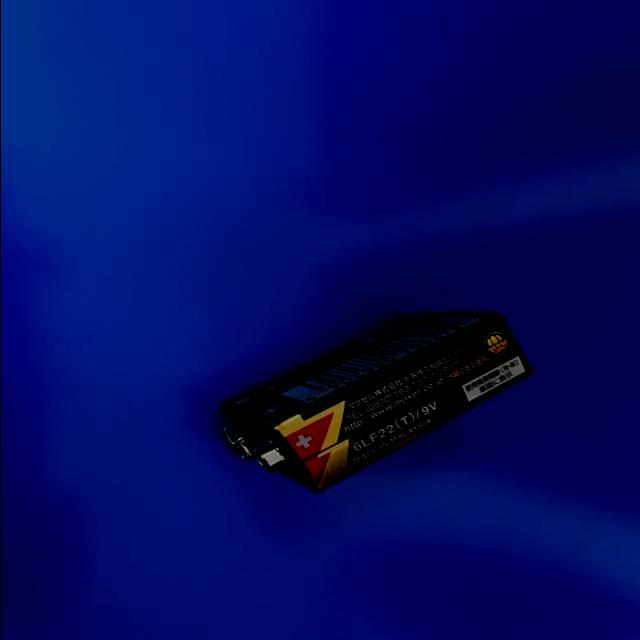9V: (212, 312, 531, 495)
